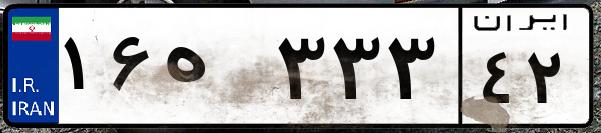1: (57, 26, 110, 100)
2: (525, 38, 570, 115)
3: (270, 28, 330, 110), (385, 28, 445, 110), (330, 28, 385, 110)
4: (475, 38, 525, 113)
6: (110, 28, 158, 98)
ه: (158, 20, 270, 120)
